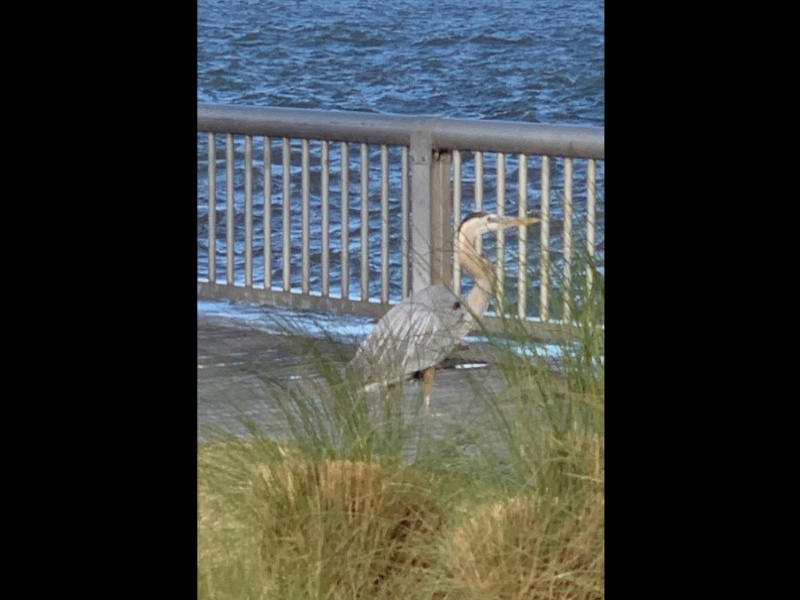heron: (334, 208, 541, 428)
